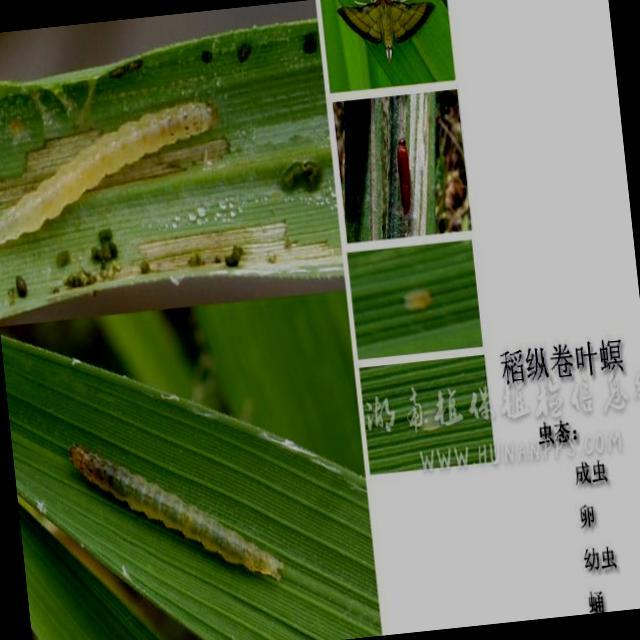leaf folder: (0, 102, 212, 245), (69, 446, 283, 579)
